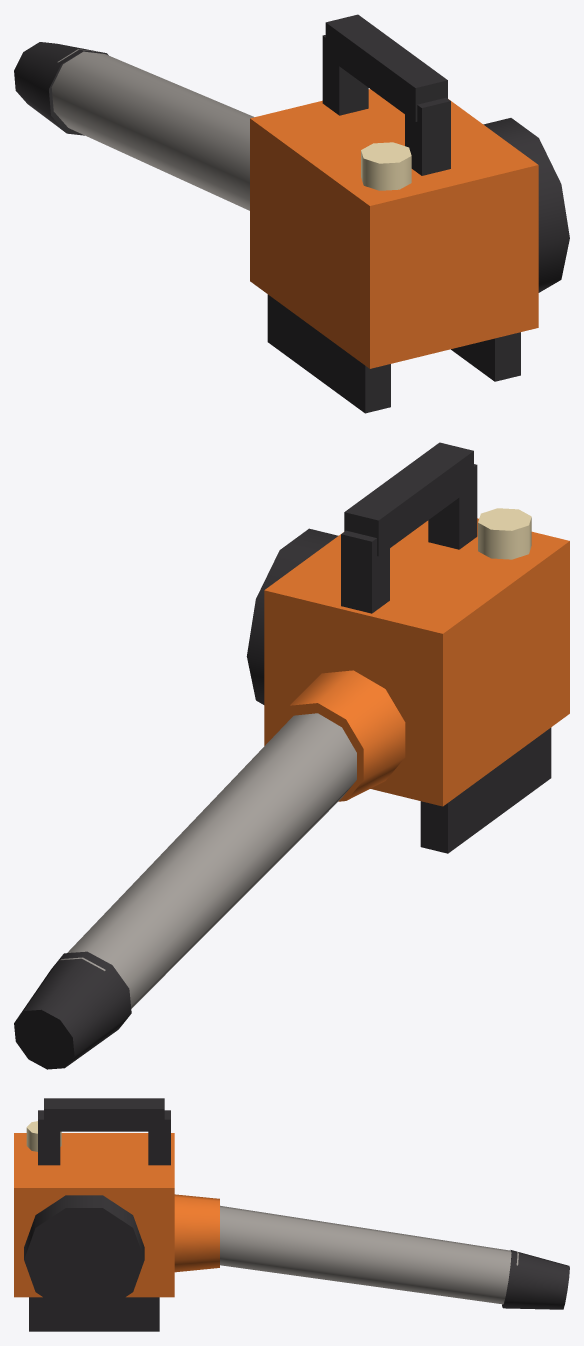
Rendered from leaf_blower.glb.
3 views of the same model, one above another, from view 1: azimuth 30°, elevation 25°; view 2: azimuth 150°, elevation 25°; view 3: azimuth 270°, elevation 25° (orthographic). The views are drawn at different scales.
Parts seen in each view (by area): view 1: Body, Tube, Grip, FootLeft, Engine, Nozzle, PostBack, Cap, FootRight, PostFront; view 2: Body, Tube, Nozzle, Neck, Grip, FootLeft, PostFront, Engine, Cap, PostBack; view 3: Tube, Body, Engine, Grip, FootRight, Neck, Nozzle, PostFront, PostBack, Cap.
Part boxes in pixels (x1,y1,x2,y2): Body: [250, 89, 538, 368]; Tube: [51, 49, 254, 210]; Grip: [325, 14, 447, 121]; FootLeft: [267, 294, 390, 413]; Engine: [483, 118, 569, 292]; Nozzle: [14, 42, 108, 135]; PostBack: [405, 97, 450, 175]; Cap: [361, 142, 411, 190]; FootRight: [451, 332, 520, 381]; PostFront: [322, 35, 368, 115]; Body: [264, 518, 569, 806]; Tube: [60, 713, 356, 1008]; Nozzle: [14, 951, 131, 1069]; Neck: [272, 670, 405, 801]; Grip: [344, 442, 473, 556]; FootLeft: [420, 727, 551, 853]; PostFront: [341, 530, 389, 613]; Engine: [246, 528, 338, 704]; Cap: [478, 508, 531, 559]; PostBack: [428, 464, 477, 549]; Tube: [220, 1205, 518, 1304]; Body: [14, 1133, 174, 1297]; Engine: [24, 1195, 144, 1311]; Grip: [44, 1098, 164, 1131]; FootRight: [29, 1297, 159, 1331]; Neck: [174, 1194, 219, 1272]; Nozzle: [502, 1250, 569, 1309]; PostFront: [148, 1110, 170, 1165]; PostBack: [38, 1110, 60, 1165]; Cap: [26, 1121, 61, 1151].
Size of the model in its own units: 0.32 by 0.449 by 1.11.
